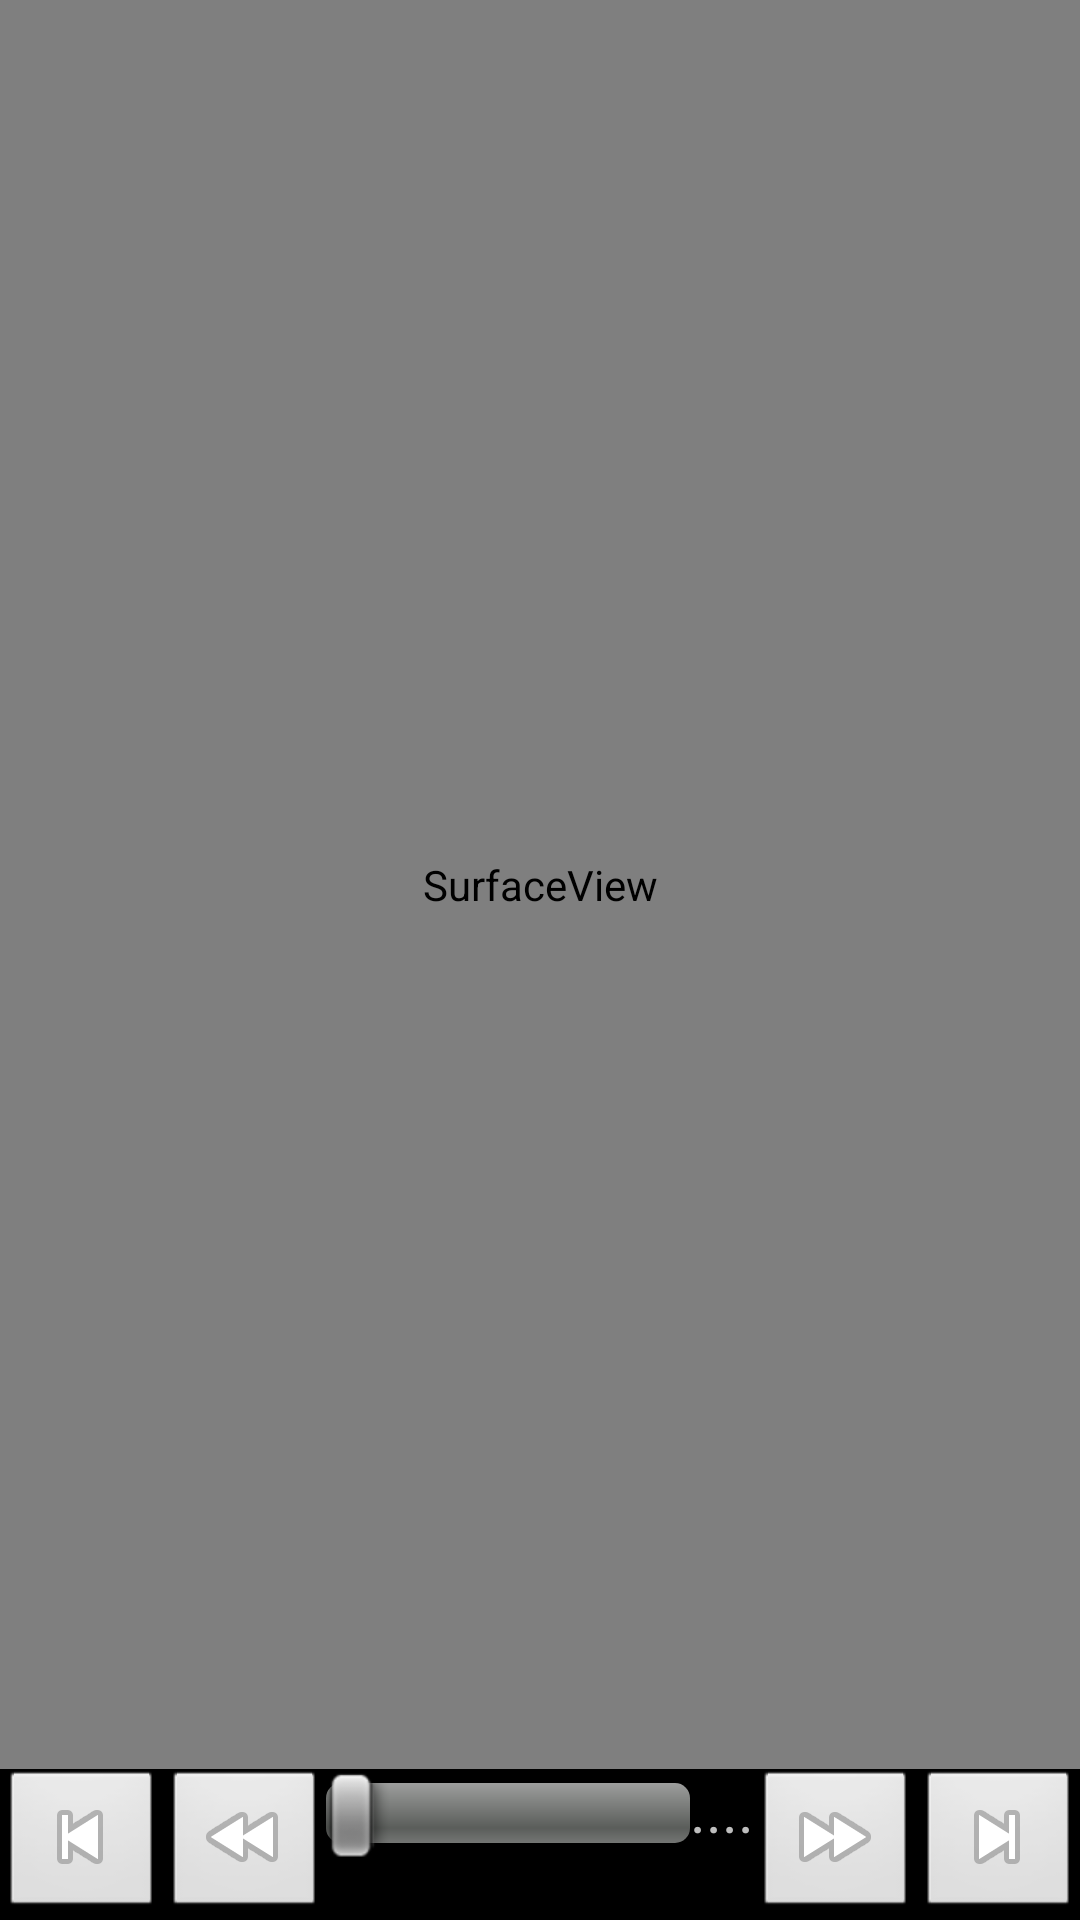

Where to tap for icons on this 1080px x 1920px app screen, as (x=x, y=y):
next: (x=998, y=1838)
previous: (x=81, y=1838)
rew: (x=244, y=1838)
